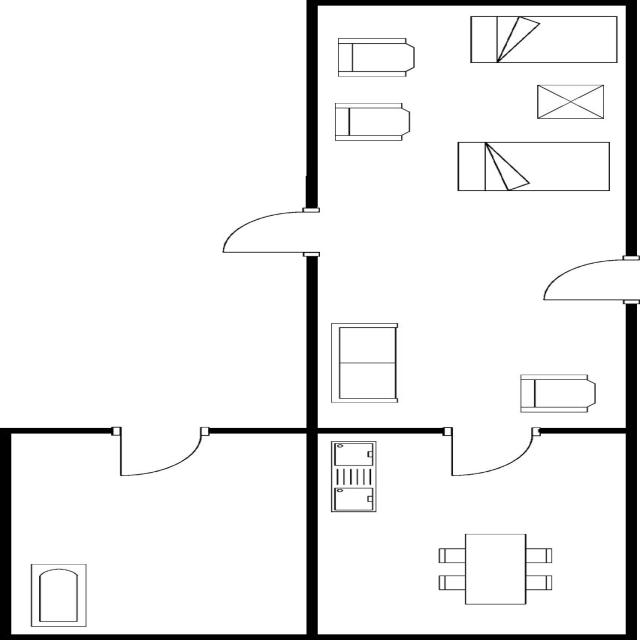armchair: (328, 100, 416, 144), (512, 370, 597, 415), (332, 36, 418, 78)
bed: (450, 139, 614, 194), (465, 14, 620, 65)
coffee_table: (532, 81, 608, 122)
dining_table: (435, 532, 552, 607)
large_sofa: (323, 318, 403, 406)
tub: (20, 561, 94, 630)
twin_sink: (325, 438, 383, 516)
